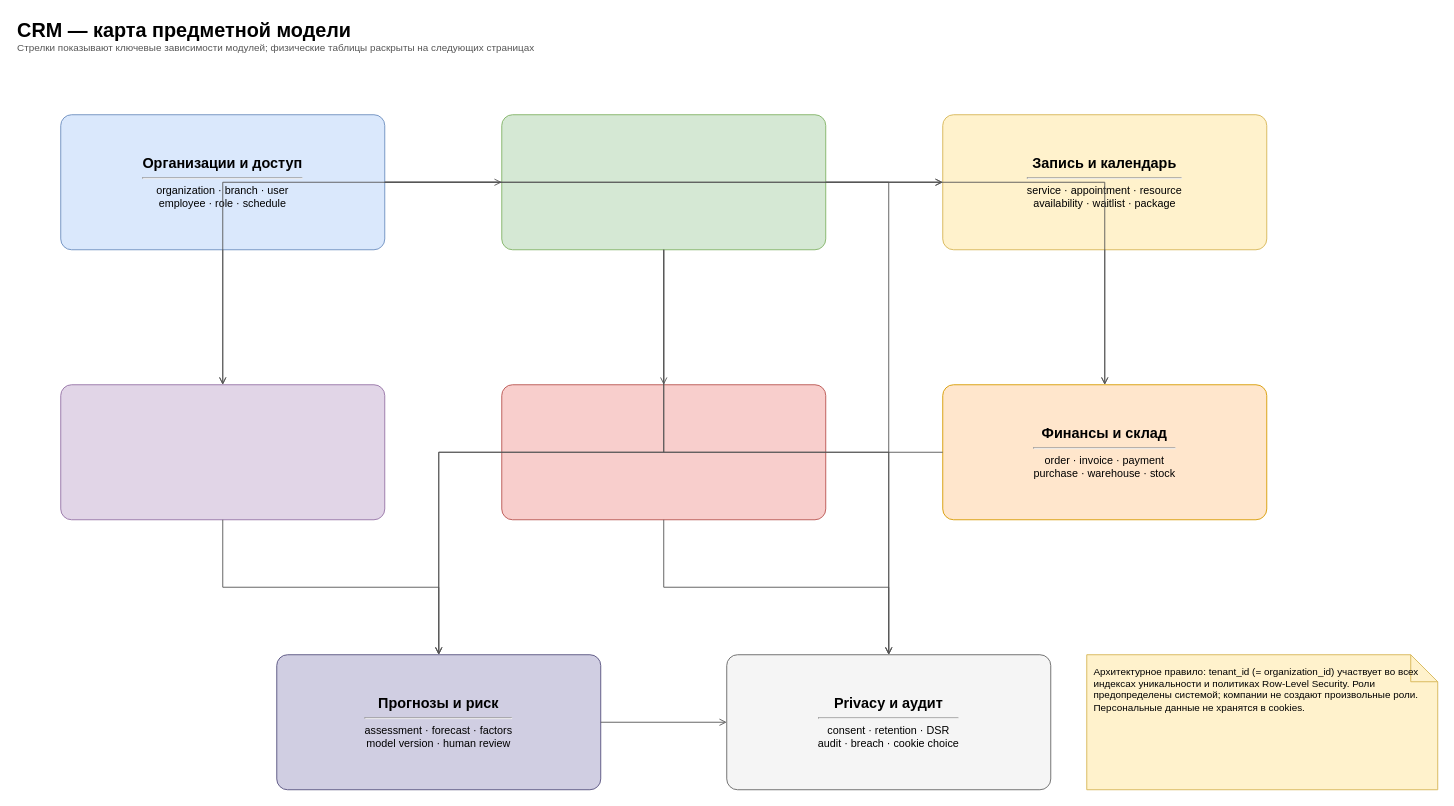
This 1454x806 diagram has some shape labels left out. The centre of each missing label's shape, as x and y in pixels:
"CRM и продажи lead · customer · contact deal · pipeline · task · campaign" belongs at (x=663, y=182).
"Документы и ЭП template · document · version approval · signature" belongs at (x=663, y=452).
"Коммуникации email · Telegram · WhatsApp AI importance · pending case" belongs at (x=222, y=452).
